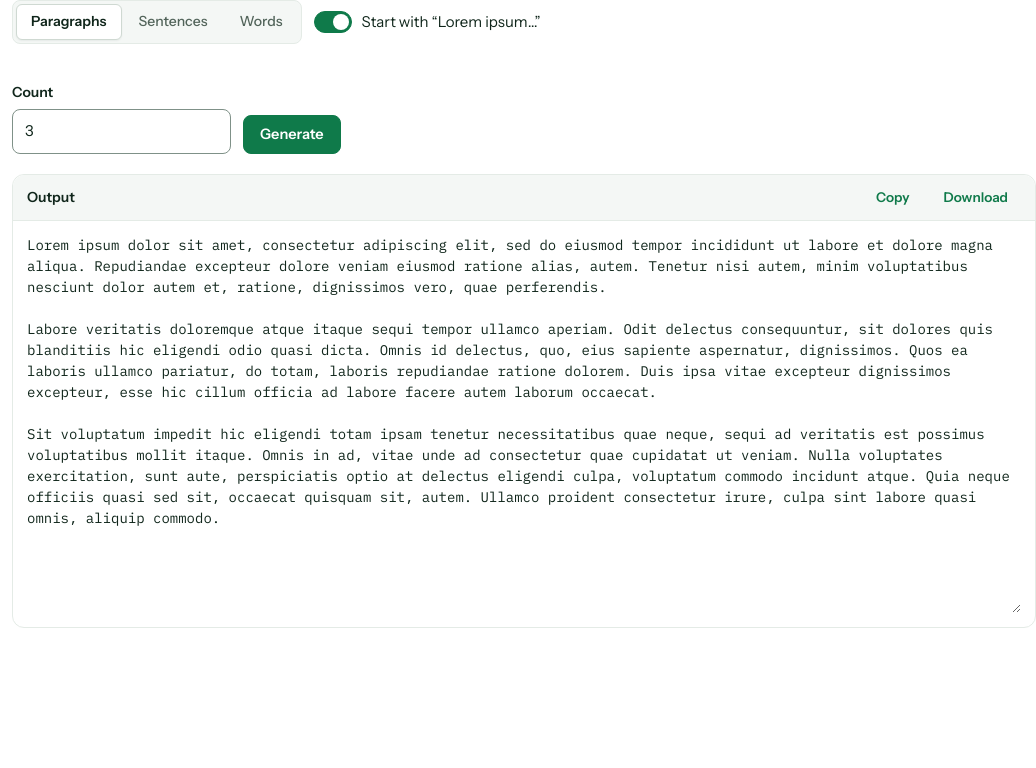
Test: LoremIpsum › shows error notice for non-numeric count
Replace the text in the number field with "abc" at (122, 132), box x1=12 y1=109 x2=231 y2=154
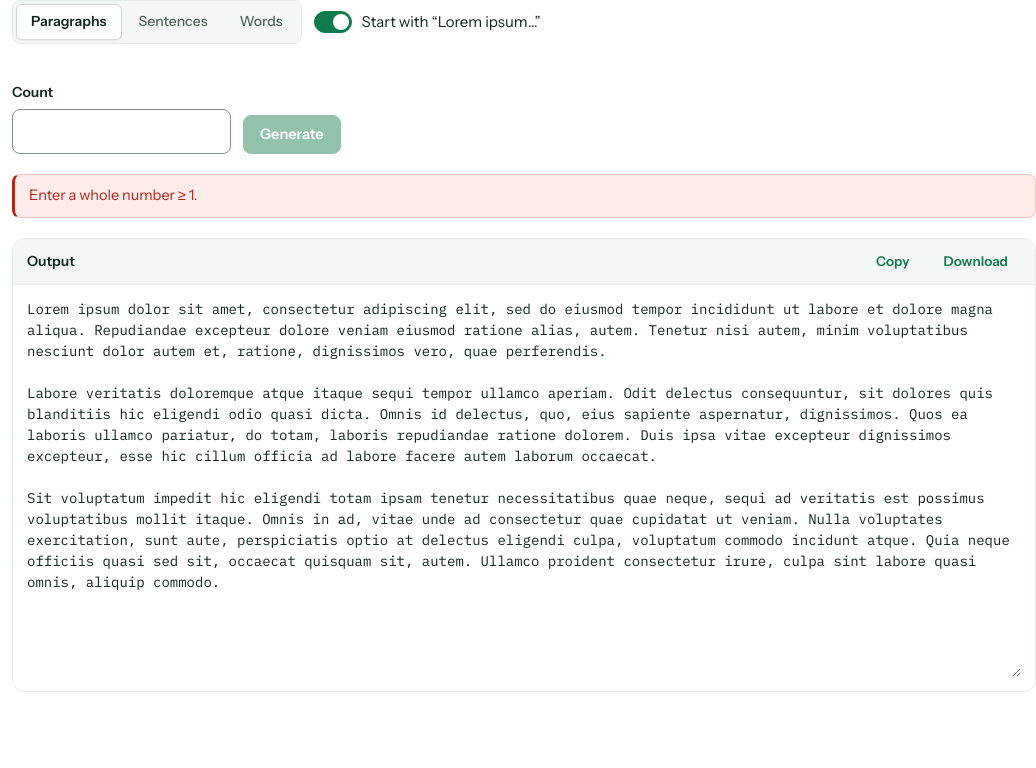
expect the text "Enter a whole number ≥ 1." is shown: met, box x1=12 y1=174 x2=1035 y2=218
expect the button "Generate" is disabled: met, box x1=243 y1=115 x2=341 y2=154
